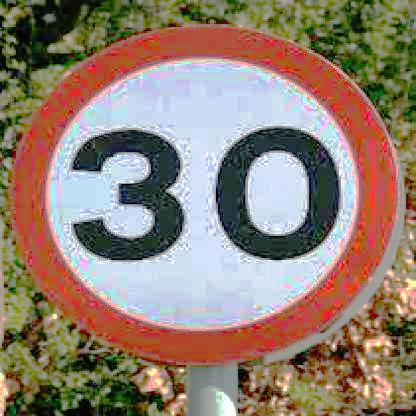Speed Limit -30-: (6, 21, 411, 372)
